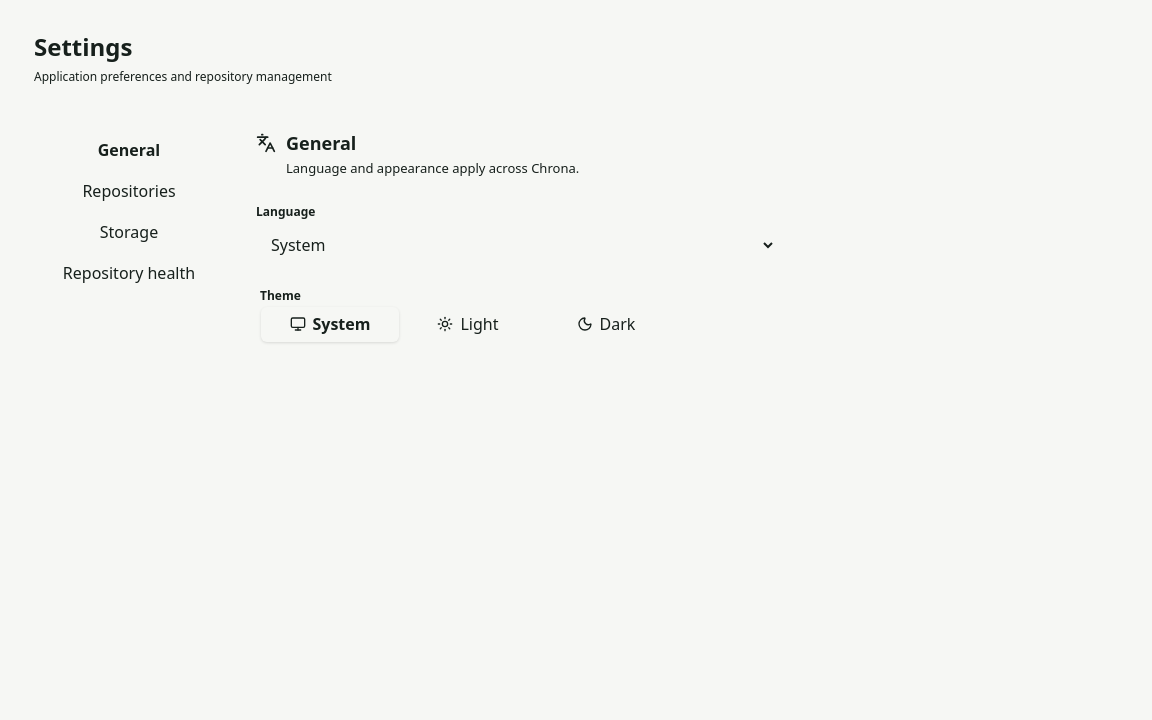
Test: shows a bottom-right status after saving compression mode
The width and height of the screenshot is (1152, 720).
Click the button "Storage": (129,232) [34,213,224,251]
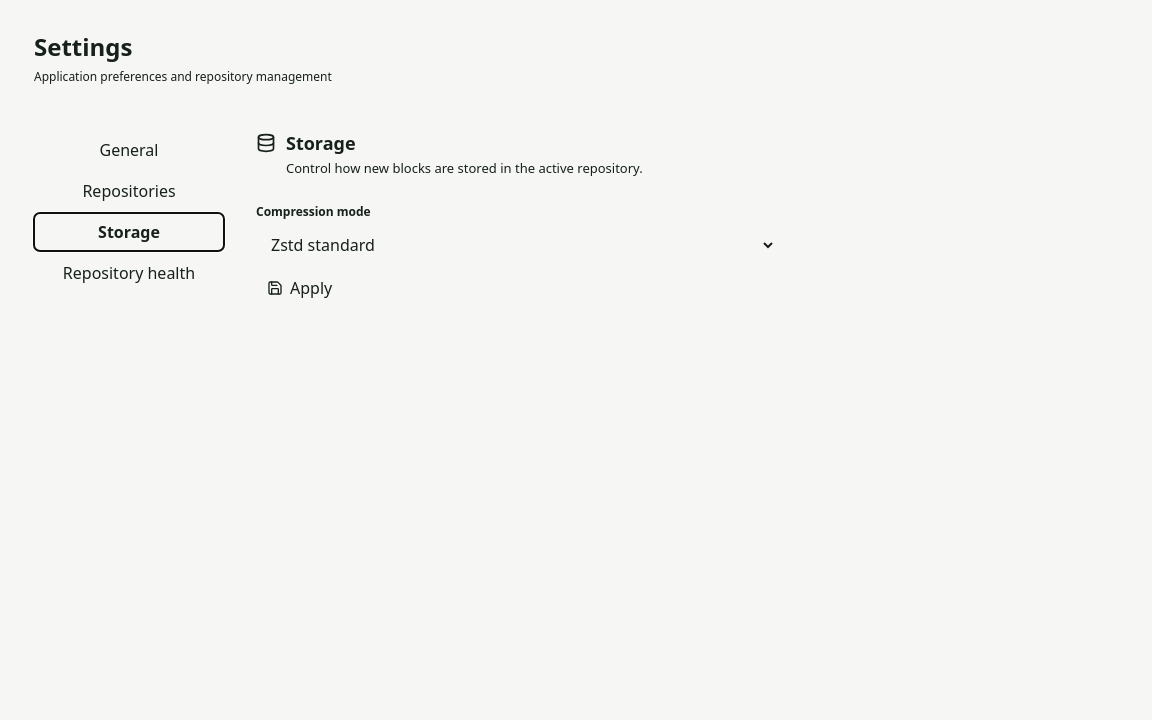
Select "LZ4 fast" in the dropdown labelled "Compression mode": (516,245) [256,228,776,262]
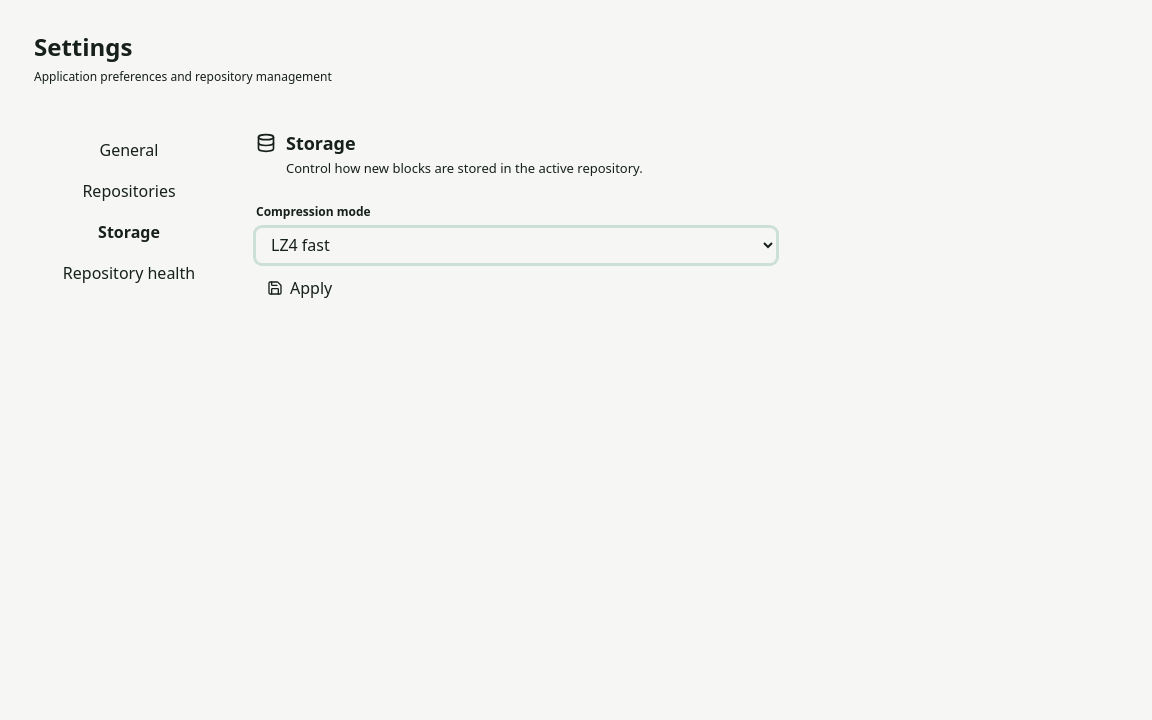
Click the button "Apply": (300,288) [256,270,343,306]
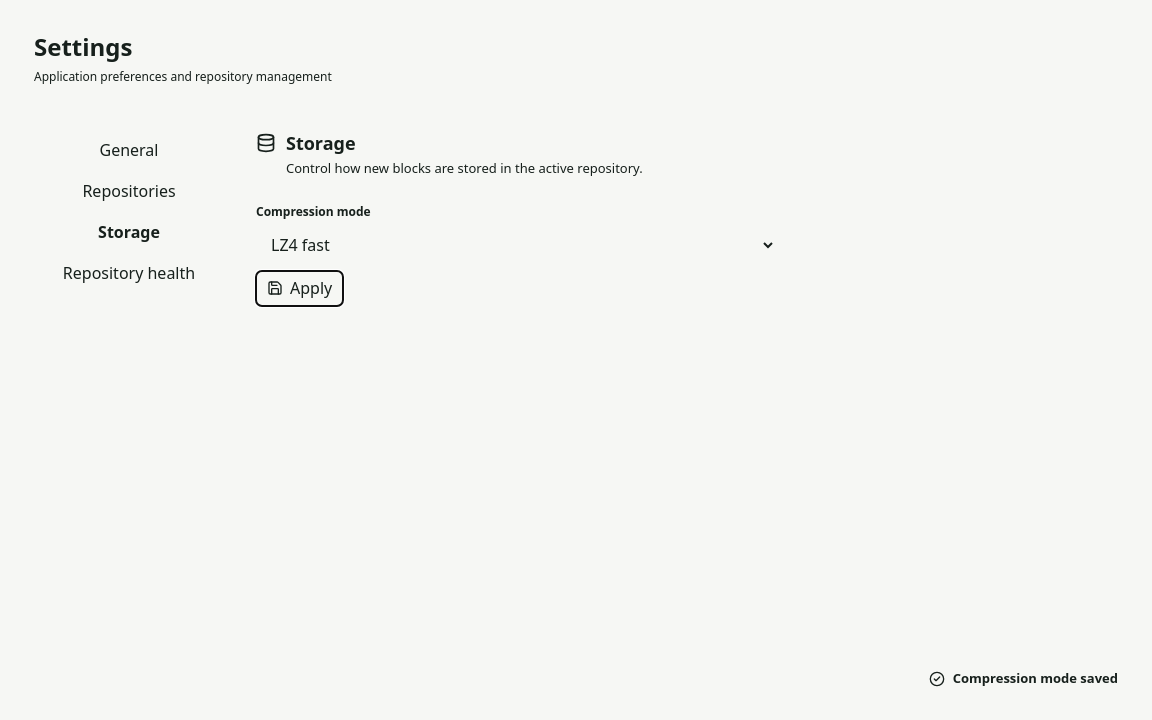
expect the message "Compression mode saved" is shown: met, box [929,669,1118,687]
